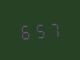five: (33, 20, 46, 39)
seven: (47, 19, 60, 38)
six: (18, 21, 31, 40)
